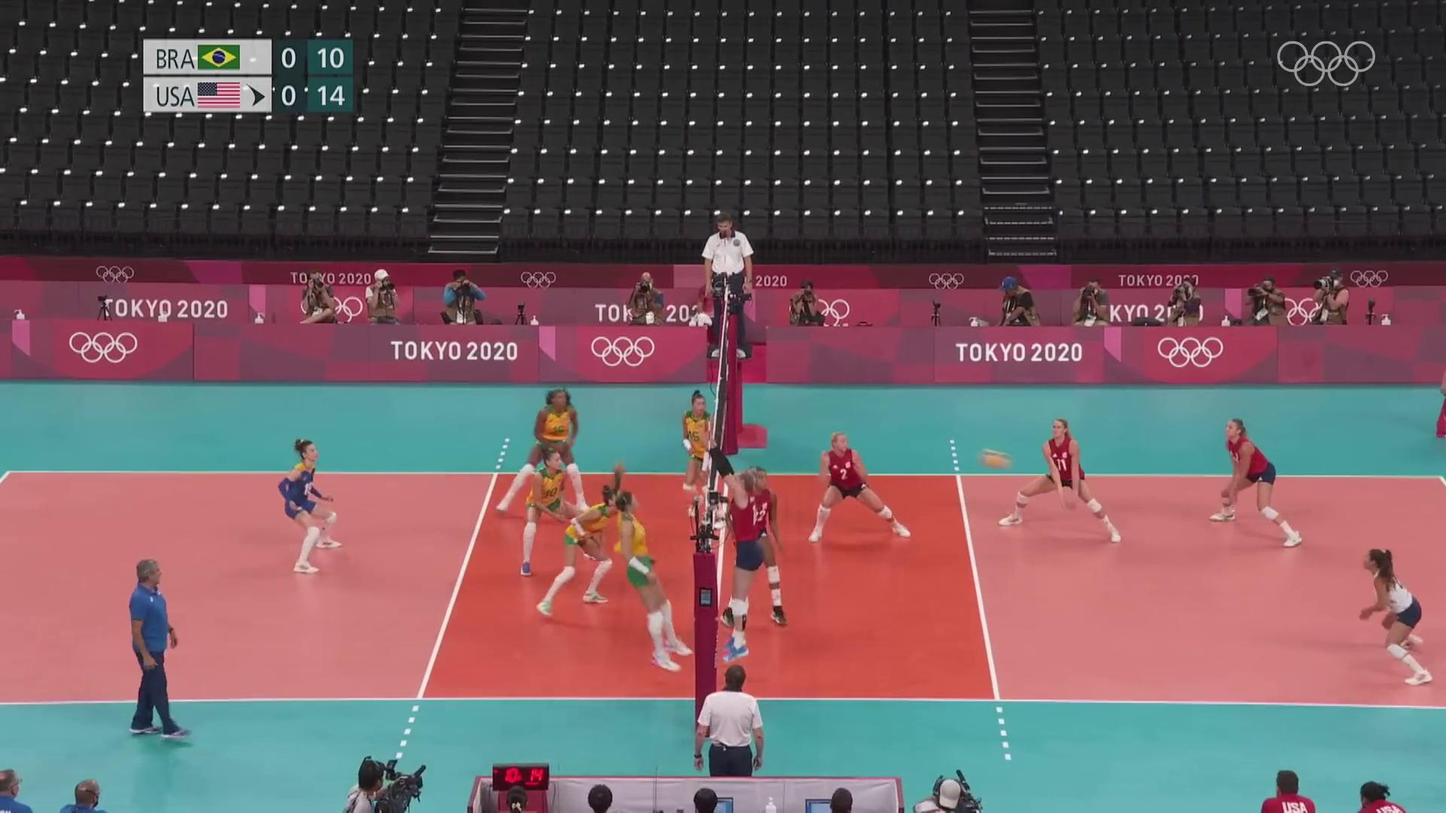player: (999, 420, 1128, 541), (616, 488, 694, 672), (541, 483, 629, 619), (504, 383, 592, 519), (1211, 417, 1300, 547), (812, 434, 914, 544), (525, 450, 610, 578), (1359, 549, 1437, 686), (714, 452, 757, 663), (731, 464, 787, 626), (279, 439, 340, 571), (684, 390, 735, 519)
refree: (689, 666, 768, 787), (701, 216, 755, 356)
